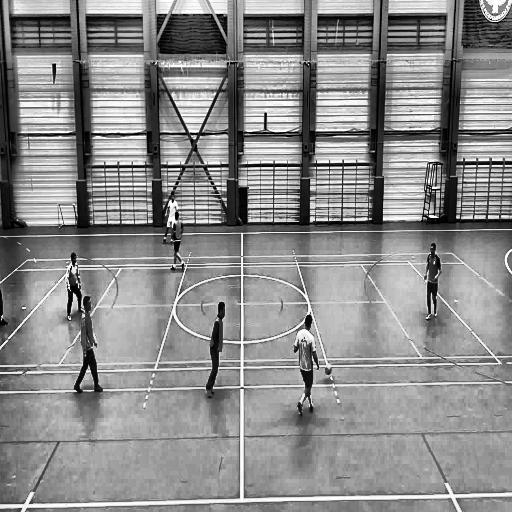ball: (324, 362, 333, 377)
player: (72, 292, 105, 396), (292, 313, 321, 420), (203, 298, 226, 403), (423, 238, 441, 320), (64, 248, 83, 322), (168, 212, 186, 278), (164, 188, 174, 244)
